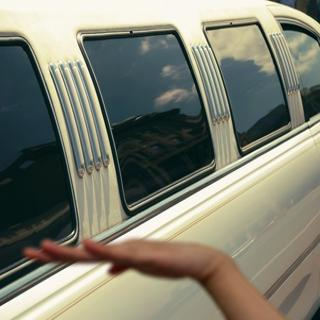WAIT: (21, 230, 231, 289)
